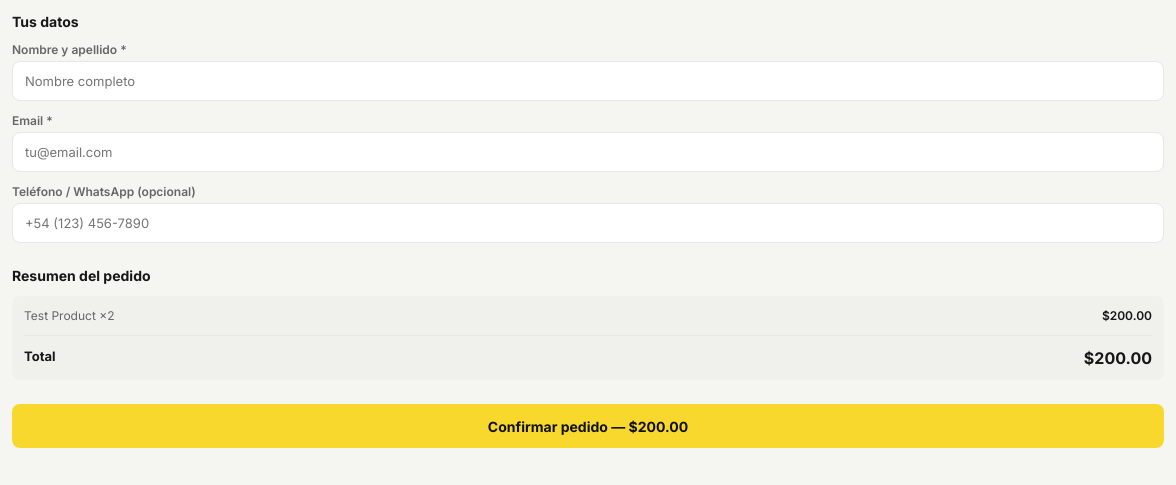
it: CheckoutForm › validates telefono format
Type "invalid@@telefono" into the field with test id "input-telefono". click: (588, 223)
box: left=12, top=203, right=1164, bottom=243
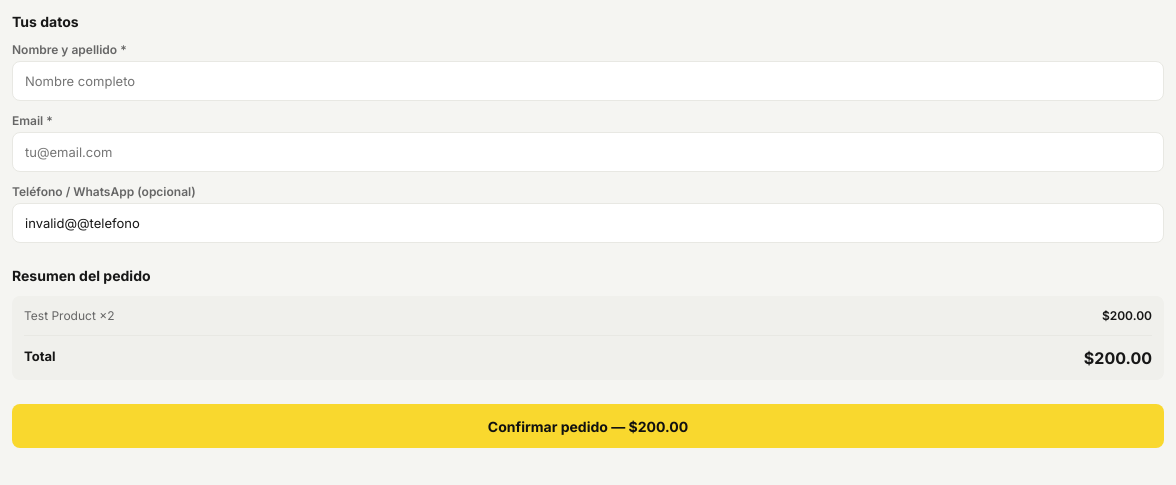
Click the button with test id "submit-button". click: (588, 426)
box: left=12, top=404, right=1164, bottom=448
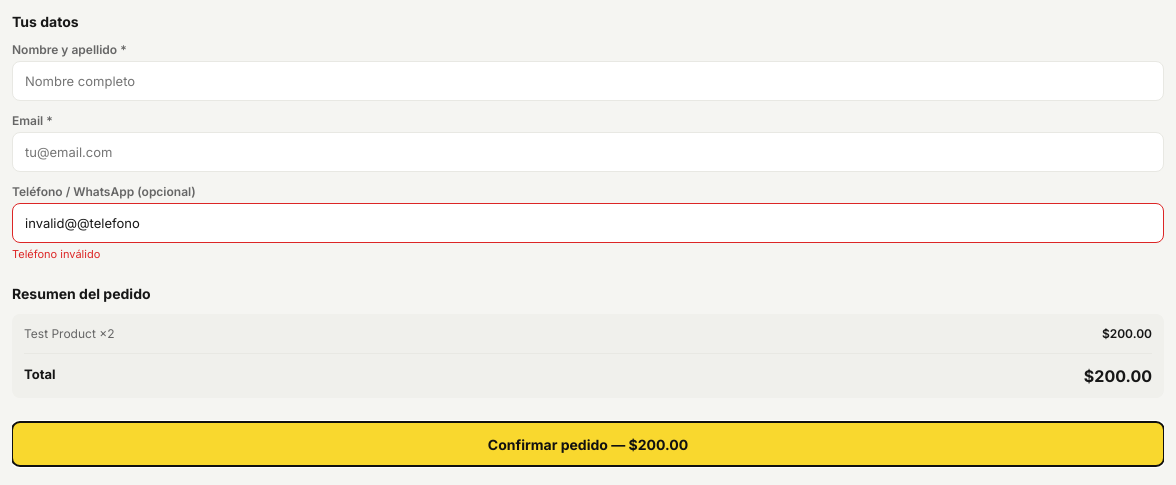
Expected: the text "Teléfono inválido" is shown, left=12, top=247, right=100, bottom=261
